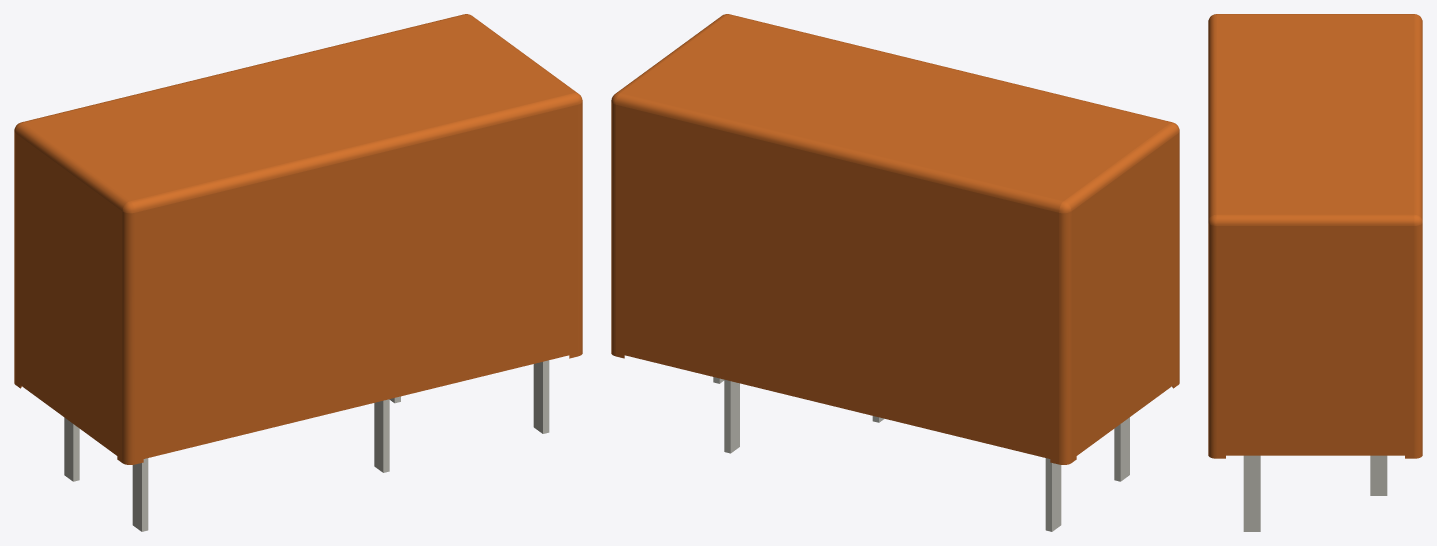
File: kc-relay_spdt_schrack-rt1-formc_rm5mm.glb
3 views of the same model, side by side, from view 1: azimuth 30°, elevation 25°; view 2: azimuth 150°, elevation 25°; view 3: azimuth 270°, elevation 25° (orthographic). The views are drawn at different scales.
Parts seen in each view (by area): view 1: 0.5833333333333334_0.16666666666666666_0_0, 0.6666666666666666_0.6666666666666666_0.5833333333333334_0.8; view 2: 0.5833333333333334_0.16666666666666666_0_0, 0.6666666666666666_0.6666666666666666_0.5833333333333334_0.8; view 3: 0.5833333333333334_0.16666666666666666_0_0, 0.6666666666666666_0.6666666666666666_0.5833333333333334_0.8.
Boxes of the visible parts, box(x1,y1,x2,y2) form: 0.5833333333333334_0.16666666666666666_0_0: box(14, 14, 582, 464); 0.6666666666666666_0.6666666666666666_0.5833333333333334_0.8: box(64, 360, 549, 531); 0.5833333333333334_0.16666666666666666_0_0: box(611, 14, 1179, 464); 0.6666666666666666_0.6666666666666666_0.5833333333333334_0.8: box(713, 377, 1129, 531); 0.5833333333333334_0.16666666666666666_0_0: box(1208, 14, 1422, 458); 0.6666666666666666_0.6666666666666666_0.5833333333333334_0.8: box(1243, 455, 1387, 531).
Bounding box in the file's own units: 2.9 × 2.1 × 1.27.
